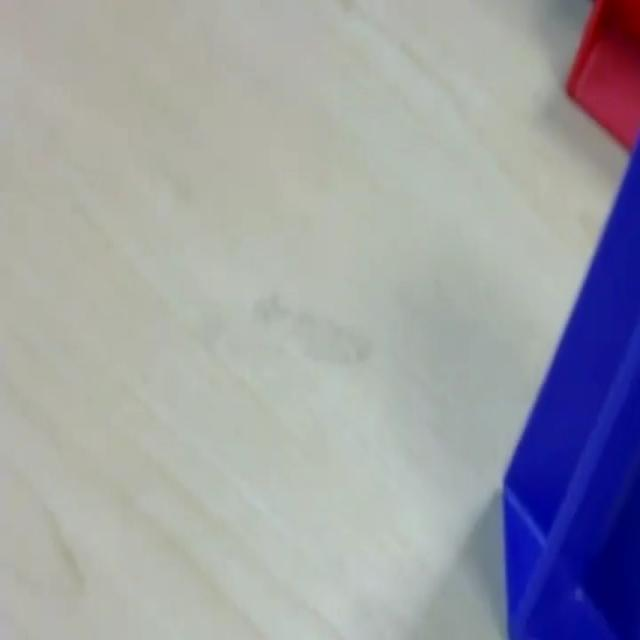blue_block: (501, 131, 639, 636)
red_block: (563, 0, 638, 153)
